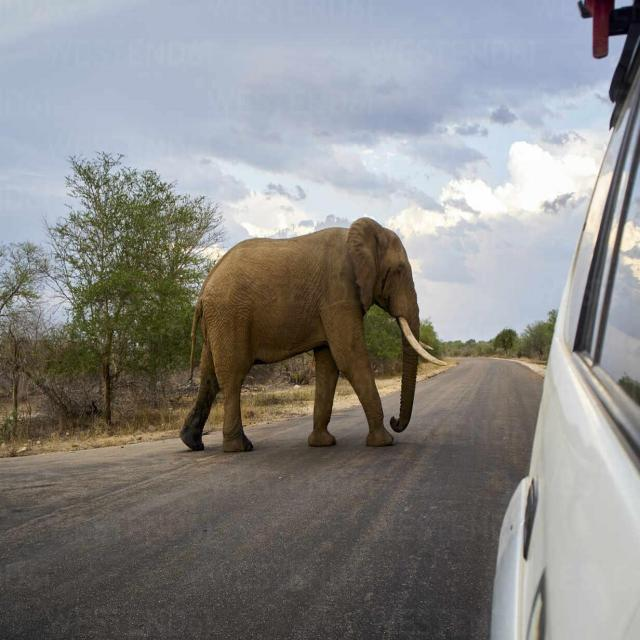Elephant: (167, 200, 450, 462)
